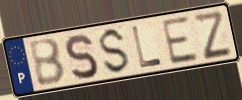B: (27, 36, 68, 89)
E: (159, 15, 201, 67)
L: (130, 24, 164, 70)
S: (63, 32, 100, 82), (98, 26, 132, 77)
Z: (191, 10, 234, 62)
